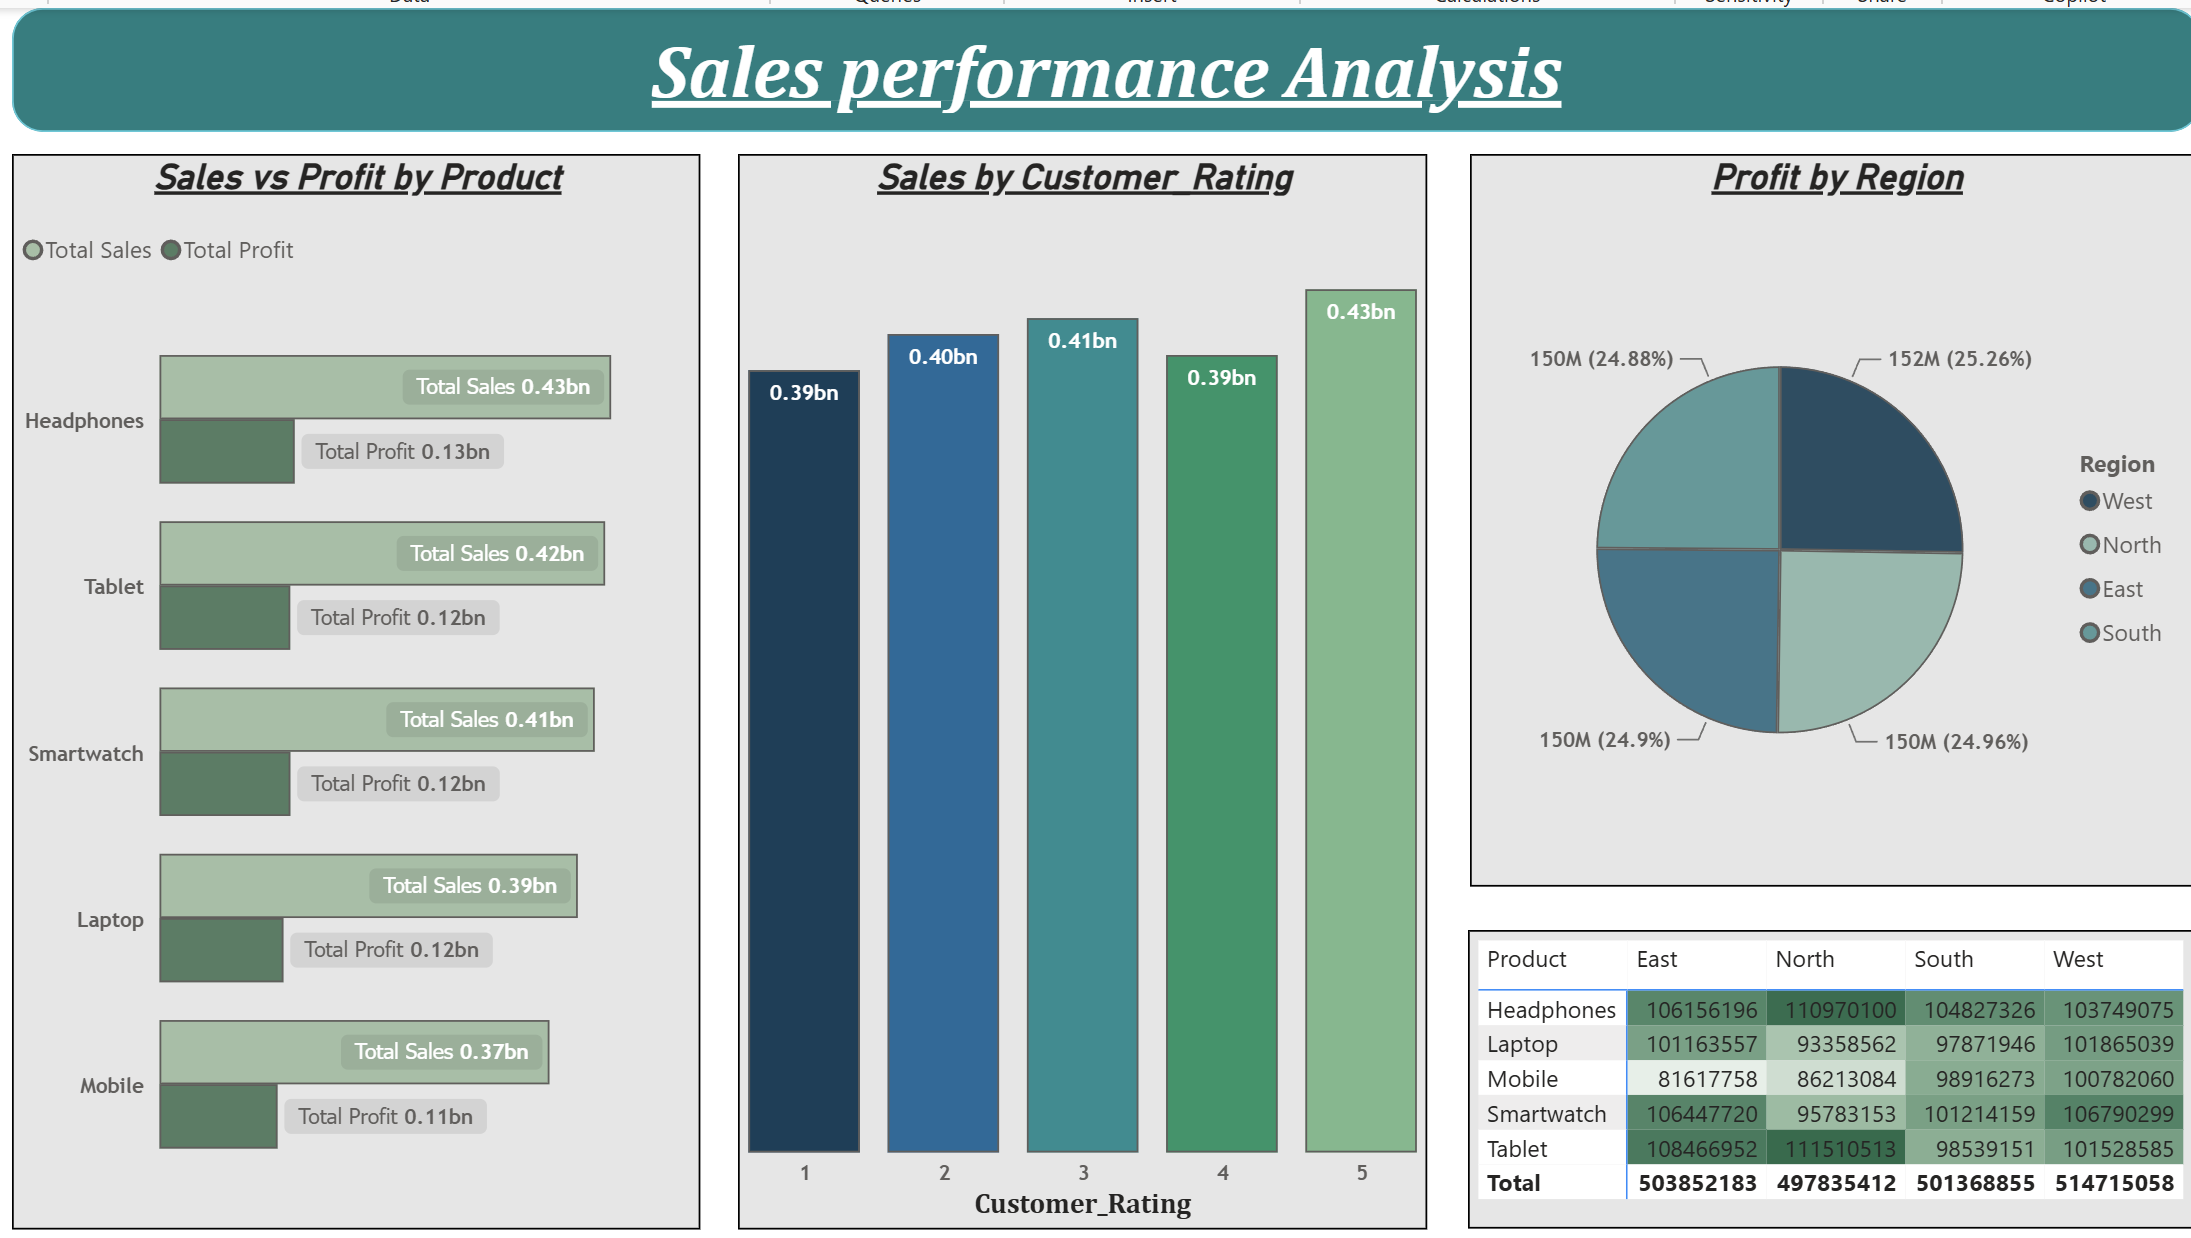

Layout of this report page (visuals, bound fields, positions):
{"tool":"powerbi","page":{"name":"L1 | T1 (2)","canvas":[1280,720],"ordinal":1},"visuals":[{"type":"shape","box":[10.2,0,1260.9,71.4],"z":0},{"type":"clusteredBarChart","title":"Sales vs Profit by Product","fields":{"Category":["Sales_data.Product"],"Y":["Measures Table 1.Total Sales","Measures Table 1.Total Profit"]},"box":[10.2,84.1,396.5,619.6],"z":1000},{"type":"pivotTable","fields":{"Columns":["Sales_data.Region"],"Rows":["Sales_data.Product"],"Values":["Measures Table 1.Total Sales"]},"box":[849.1,531.6,422,172.1],"z":2000},{"type":"clusteredColumnChart","title":"Sales by Customer_Rating","fields":{"Category":["Sales_data.Customer_Rating"],"Y":["Measures Table 1.Total Sales"]},"box":[428.4,84.1,397,619.6],"z":3000},{"type":"pieChart","title":"Profit by Region","fields":{"Category":["Sales_data.Region"],"Y":["Measures Table 1.Total Profit"]},"box":[850.4,84.1,421,422],"z":4000}]}

Visuals, with their boxes in screenshot pixels (x1, y1, x2, y2), scaled from the page's 1280x720 canvas onto the 2191x1238 screenshot:
shape: BBox(17, 0, 2176, 123)
"Sales vs Profit by Product" clusteredBarChart: BBox(17, 145, 696, 1210)
pivotTable - Sales_data.Region x Sales_data.Product: BBox(1453, 914, 2176, 1210)
"Sales by Customer_Rating" clusteredColumnChart: BBox(733, 145, 1413, 1210)
"Profit by Region" pieChart: BBox(1456, 145, 2176, 870)
